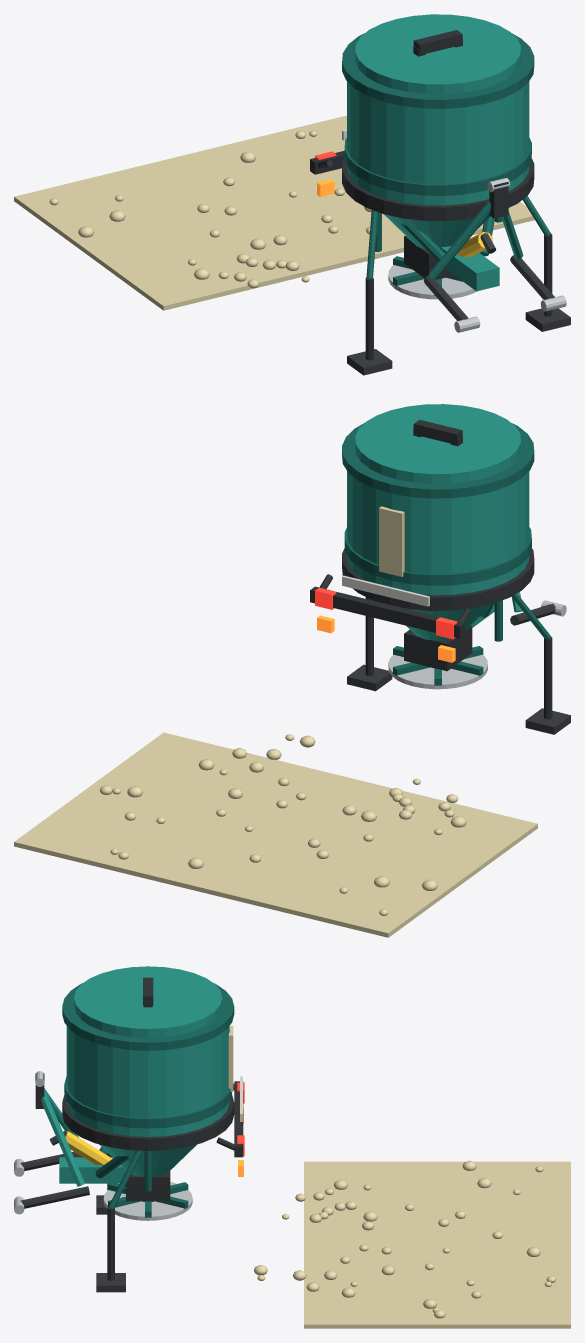
Rendered from mounted_fertilizer.glb.
3 views of the same model, one above another, from view 1: azimuth 30°, elevation 25°; view 2: azimuth 150°, elevation 25°; view 3: azimuth 270°, elevation 25° (orthographic). The views are drawn at different scales.
Parts seen in each view (by area): view 1: FertBody, FertProps, FertDisc; view 2: FertProps, FertBody, FertDisc; view 3: FertProps, FertBody, FertDisc.
Boxes of the visible parts, bbox=[...] form: FertBody: bbox=[310, 14, 570, 375]; FertProps: bbox=[14, 115, 534, 310]; FertDisc: bbox=[388, 256, 476, 299]; FertProps: bbox=[14, 732, 537, 937]; FertBody: bbox=[310, 404, 570, 734]; FertDisc: bbox=[388, 646, 487, 689]; FertProps: bbox=[254, 1160, 570, 1328]; FertBody: bbox=[14, 966, 244, 1292]; FertDisc: bbox=[103, 1182, 192, 1220].
Size of the model in its own units: 2.6 by 1.94 by 3.75.
